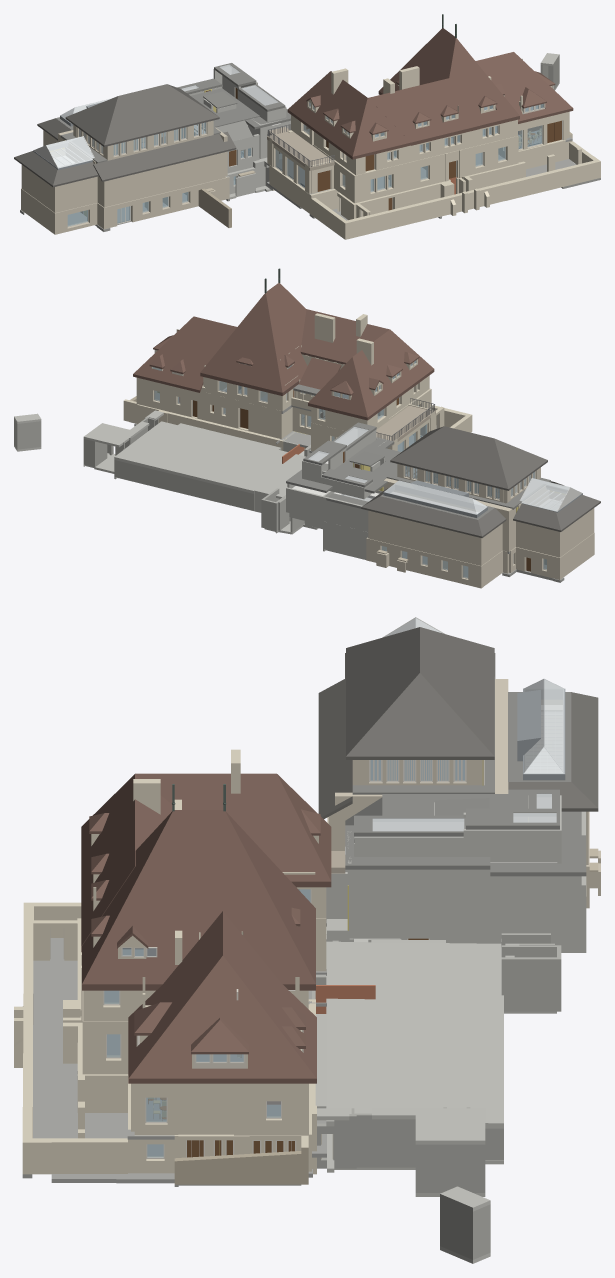
3 renders of one model, top to bottom at view 1: azimuth 30°, elevation 25°; view 2: azimuth 150°, elevation 25°; view 3: azimuth 270°, elevation 25°, orthographic. The views are drawn at different scales.
Parts seen in each view (by area): view 1: rh-r3488900-c0, rh-r3488462-c0, rh-r4741785-c0, rh-r1944485-c0, rh-r4741831-c0, rh-r1944772-c0, rh-r3488751-c0, rh-r3488917-c0, rh-r1944553-c0, rh-r1944721-c0, rh-r3488883-c0, rh-r1944373-c0 (+46 smaller); view 2: rh-r4741831-c0, rh-r4920993-c0, rh-r3488900-c0, rh-r3488462-c0, rh-r3488751-c0, rh-r1944776-c0, rh-r3488968-c0, rh-r1944904-c0, rh-r1944736-c0, rh-r4741785-c0, rh-r1944856-c0, rh-r4921032-c0 (+33 smaller); view 3: rh-r4741831-c0, rh-r4920993-c0, rh-r3488751-c0, rh-r3488900-c0, rh-r1944857-c0, rh-r3488462-c0, rh-r1944932-c0, rh-r4921032-c0, rh-r4741785-c0, rh-r3488968-c0, rh-r4741667-c1, rh-r3488917-c0 (+39 smaller).
Part boxes in pixels (<box>): rh-r3488900-c0: <box>65,84,219,146</box>; rh-r3488462-c0: <box>287,71,410,159</box>; rh-r4741785-c0: <box>368,74,479,145</box>; rh-r1944485-c0: <box>351,136,518,203</box>; rh-r4741831-c0: <box>378,28,519,128</box>; rh-r1944772-c0: <box>108,152,225,206</box>; rh-r3488751-c0: <box>475,52,573,123</box>; rh-r3488917-c0: <box>93,131,236,181</box>; rh-r1944553-c0: <box>352,119,517,175</box>; rh-r1944721-c0: <box>100,184,201,229</box>; rh-r3488883-c0: <box>14,151,98,187</box>; rh-r1944373-c0: <box>369,198,441,233</box>; rh-r4741831-c0: <box>200,283,307,395</box>; rh-r4920993-c0: <box>114,431,301,499</box>; rh-r3488900-c0: <box>390,426,547,490</box>; rh-r3488462-c0: <box>308,329,434,420</box>; rh-r3488751-c0: <box>133,316,236,392</box>; rh-r1944776-c0: <box>368,510,483,565</box>; rh-r3488968-c0: <box>361,488,506,537</box>; rh-r1944904-c0: <box>114,460,254,510</box>; rh-r1944736-c0: <box>366,537,483,588</box>; rh-r4741785-c0: <box>300,309,389,364</box>; rh-r1944856-c0: <box>286,487,368,531</box>; rh-r4921032-c0: <box>148,421,287,464</box>; rh-r4741831-c0: <box>82,810,315,990</box>; rh-r4920993-c0: <box>372,942,503,1128</box>; rh-r3488751-c0: <box>128,911,316,1083</box>; rh-r3488900-c0: <box>346,627,494,759</box>; rh-r1944857-c0: <box>347,869,581,930</box>; rh-r3488462-c0: <box>81,773,331,887</box>; rh-r1944932-c0: <box>22,938,326,1186</box>; rh-r4921032-c0: <box>326,997,377,1126</box>; rh-r4741785-c0: <box>81,774,172,952</box>; rh-r3488968-c0: <box>508,692,598,811</box>; rh-r4741667-c1: <box>174,1151,301,1184</box>; rh-r3488917-c0: <box>318,678,352,818</box>.
Bounding box in the file's own units: 82.23 × 24.01 × 40.21.
